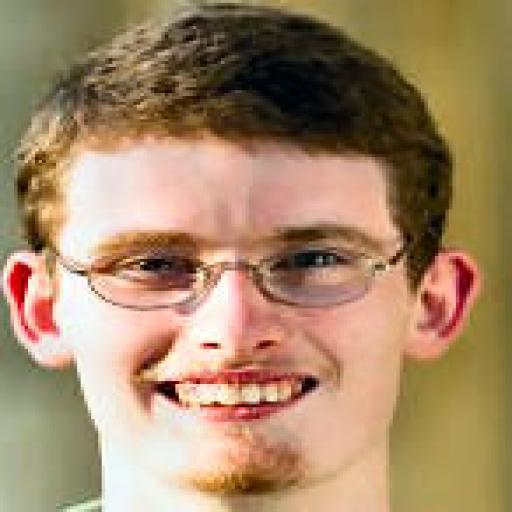Autism: (47, 59, 468, 488)
